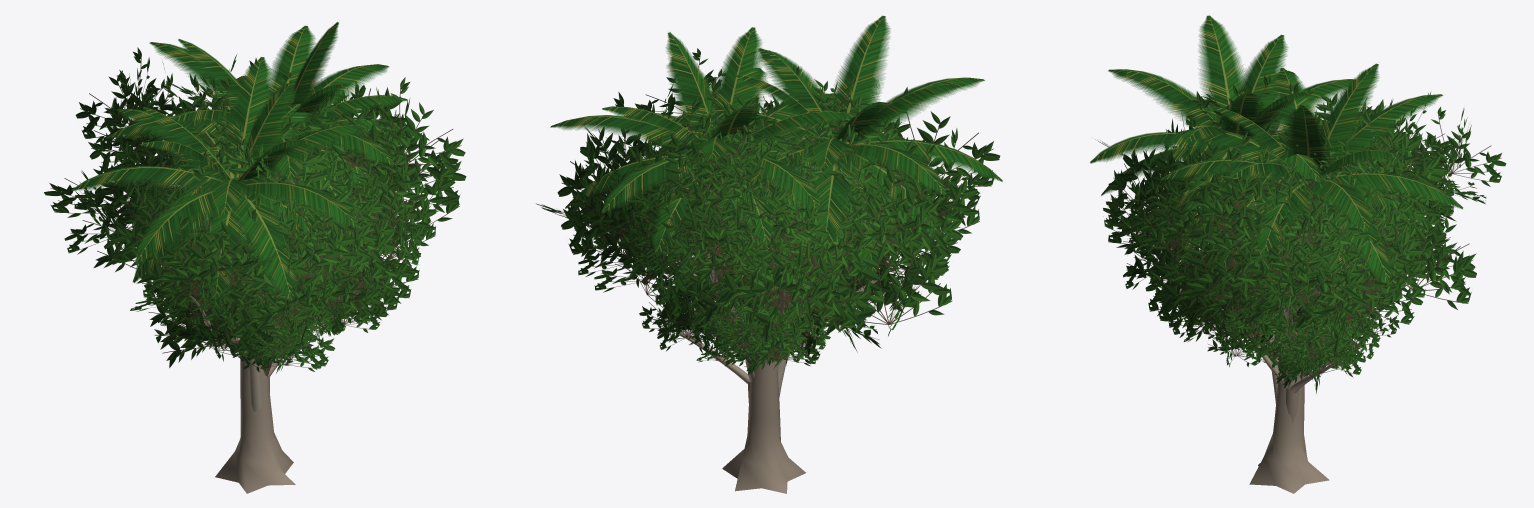
File: trees.glb
3 views of the same model, side by side, from view 1: azimuth 30°, elevation 25°; view 2: azimuth 150°, elevation 25°; view 3: azimuth 270°, elevation 25° (orthographic). The views are drawn at different scales.
Visible parts, largest first — view 1: Giant_Leaves, PalmB_Fronds, PalmA_Fronds, Giant_Trunk, Broad_Leaves, PalmB_Trunk; view 2: Giant_Leaves, PalmA_Fronds, PalmB_Fronds, Broad_Leaves, Giant_Trunk, Broad_Trunk; view 3: Giant_Leaves, PalmA_Fronds, PalmB_Fronds, Broad_Leaves, Giant_Trunk, Broad_Trunk.
Part boxes in pixels (box(x1,y1,x2,y2)): Giant_Leaves: box(44, 47, 466, 368); PalmB_Fronds: box(71, 57, 378, 301); PalmA_Fronds: box(106, 22, 429, 242); Giant_Trunk: box(168, 157, 361, 493); Broad_Leaves: box(160, 265, 387, 373); PalmB_Trunk: box(241, 238, 261, 411); Giant_Leaves: box(536, 48, 1000, 356); PalmA_Fronds: box(550, 27, 884, 275); PalmB_Fronds: box(671, 15, 1002, 272); Broad_Leaves: box(639, 259, 871, 374); Giant_Trunk: box(678, 239, 899, 493); Broad_Trunk: box(667, 317, 786, 402); Giant_Leaves: box(1095, 74, 1506, 359); PalmA_Fronds: box(1157, 63, 1463, 288); PalmB_Fronds: box(1090, 15, 1355, 251); Broad_Leaves: box(1172, 228, 1402, 393); Giant_Trunk: box(1179, 175, 1443, 493); Broad_Trunk: box(1249, 334, 1334, 423).
Size of the model in its own units: 14.47 by 14.1 by 14.6.
Materials: 5 (2 with a texture image).
